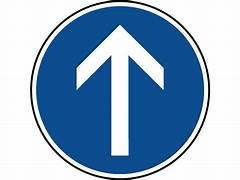forward: (29, 2, 210, 180)
